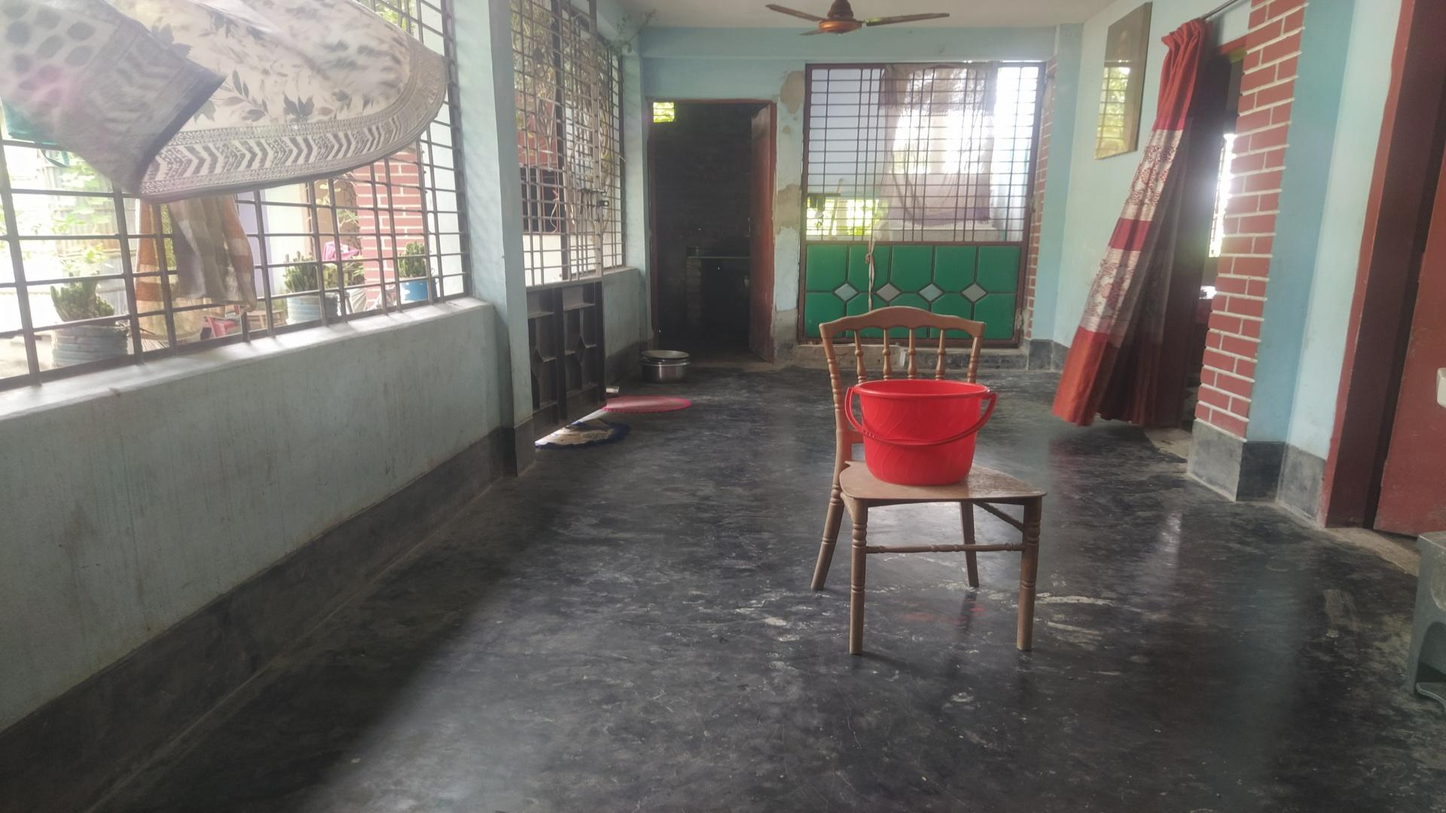Bucket: (854, 380, 989, 483)
Chair: (817, 318, 1042, 654)
Door: (805, 64, 1037, 344), (643, 96, 776, 361)
